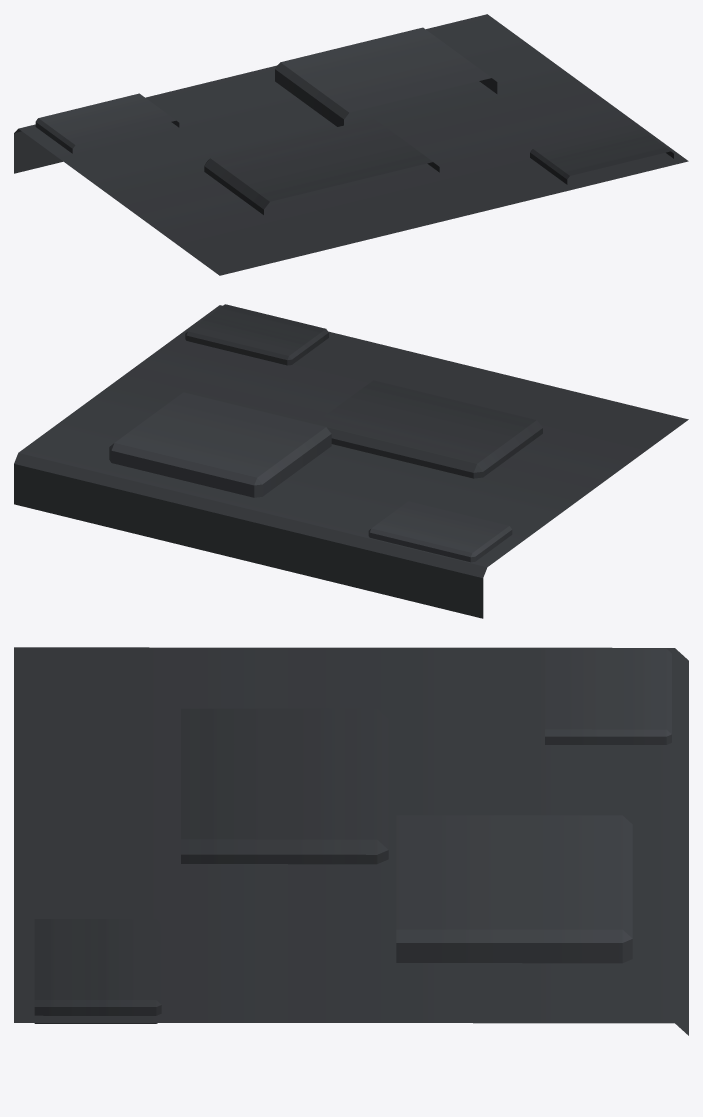
File: Wall Btm 01.FBX
3 renders of one model, top to bottom at view 1: azimuth 30°, elevation 25°; view 2: azimuth 150°, elevation 25°; view 3: azimuth 270°, elevation 25°, orthographic. The views are drawn at different scales.
Parts seen in each view (by area): view 1: Wall Btm 01; view 2: Wall Btm 01; view 3: Wall Btm 01.
Boxes of the visible parts, x1,y1,x2,y2 form: Wall Btm 01: (14, 14, 688, 275); Wall Btm 01: (14, 304, 688, 618); Wall Btm 01: (14, 647, 688, 1035).
Size of the model in its own units: 400 by 54.06 by 304.
